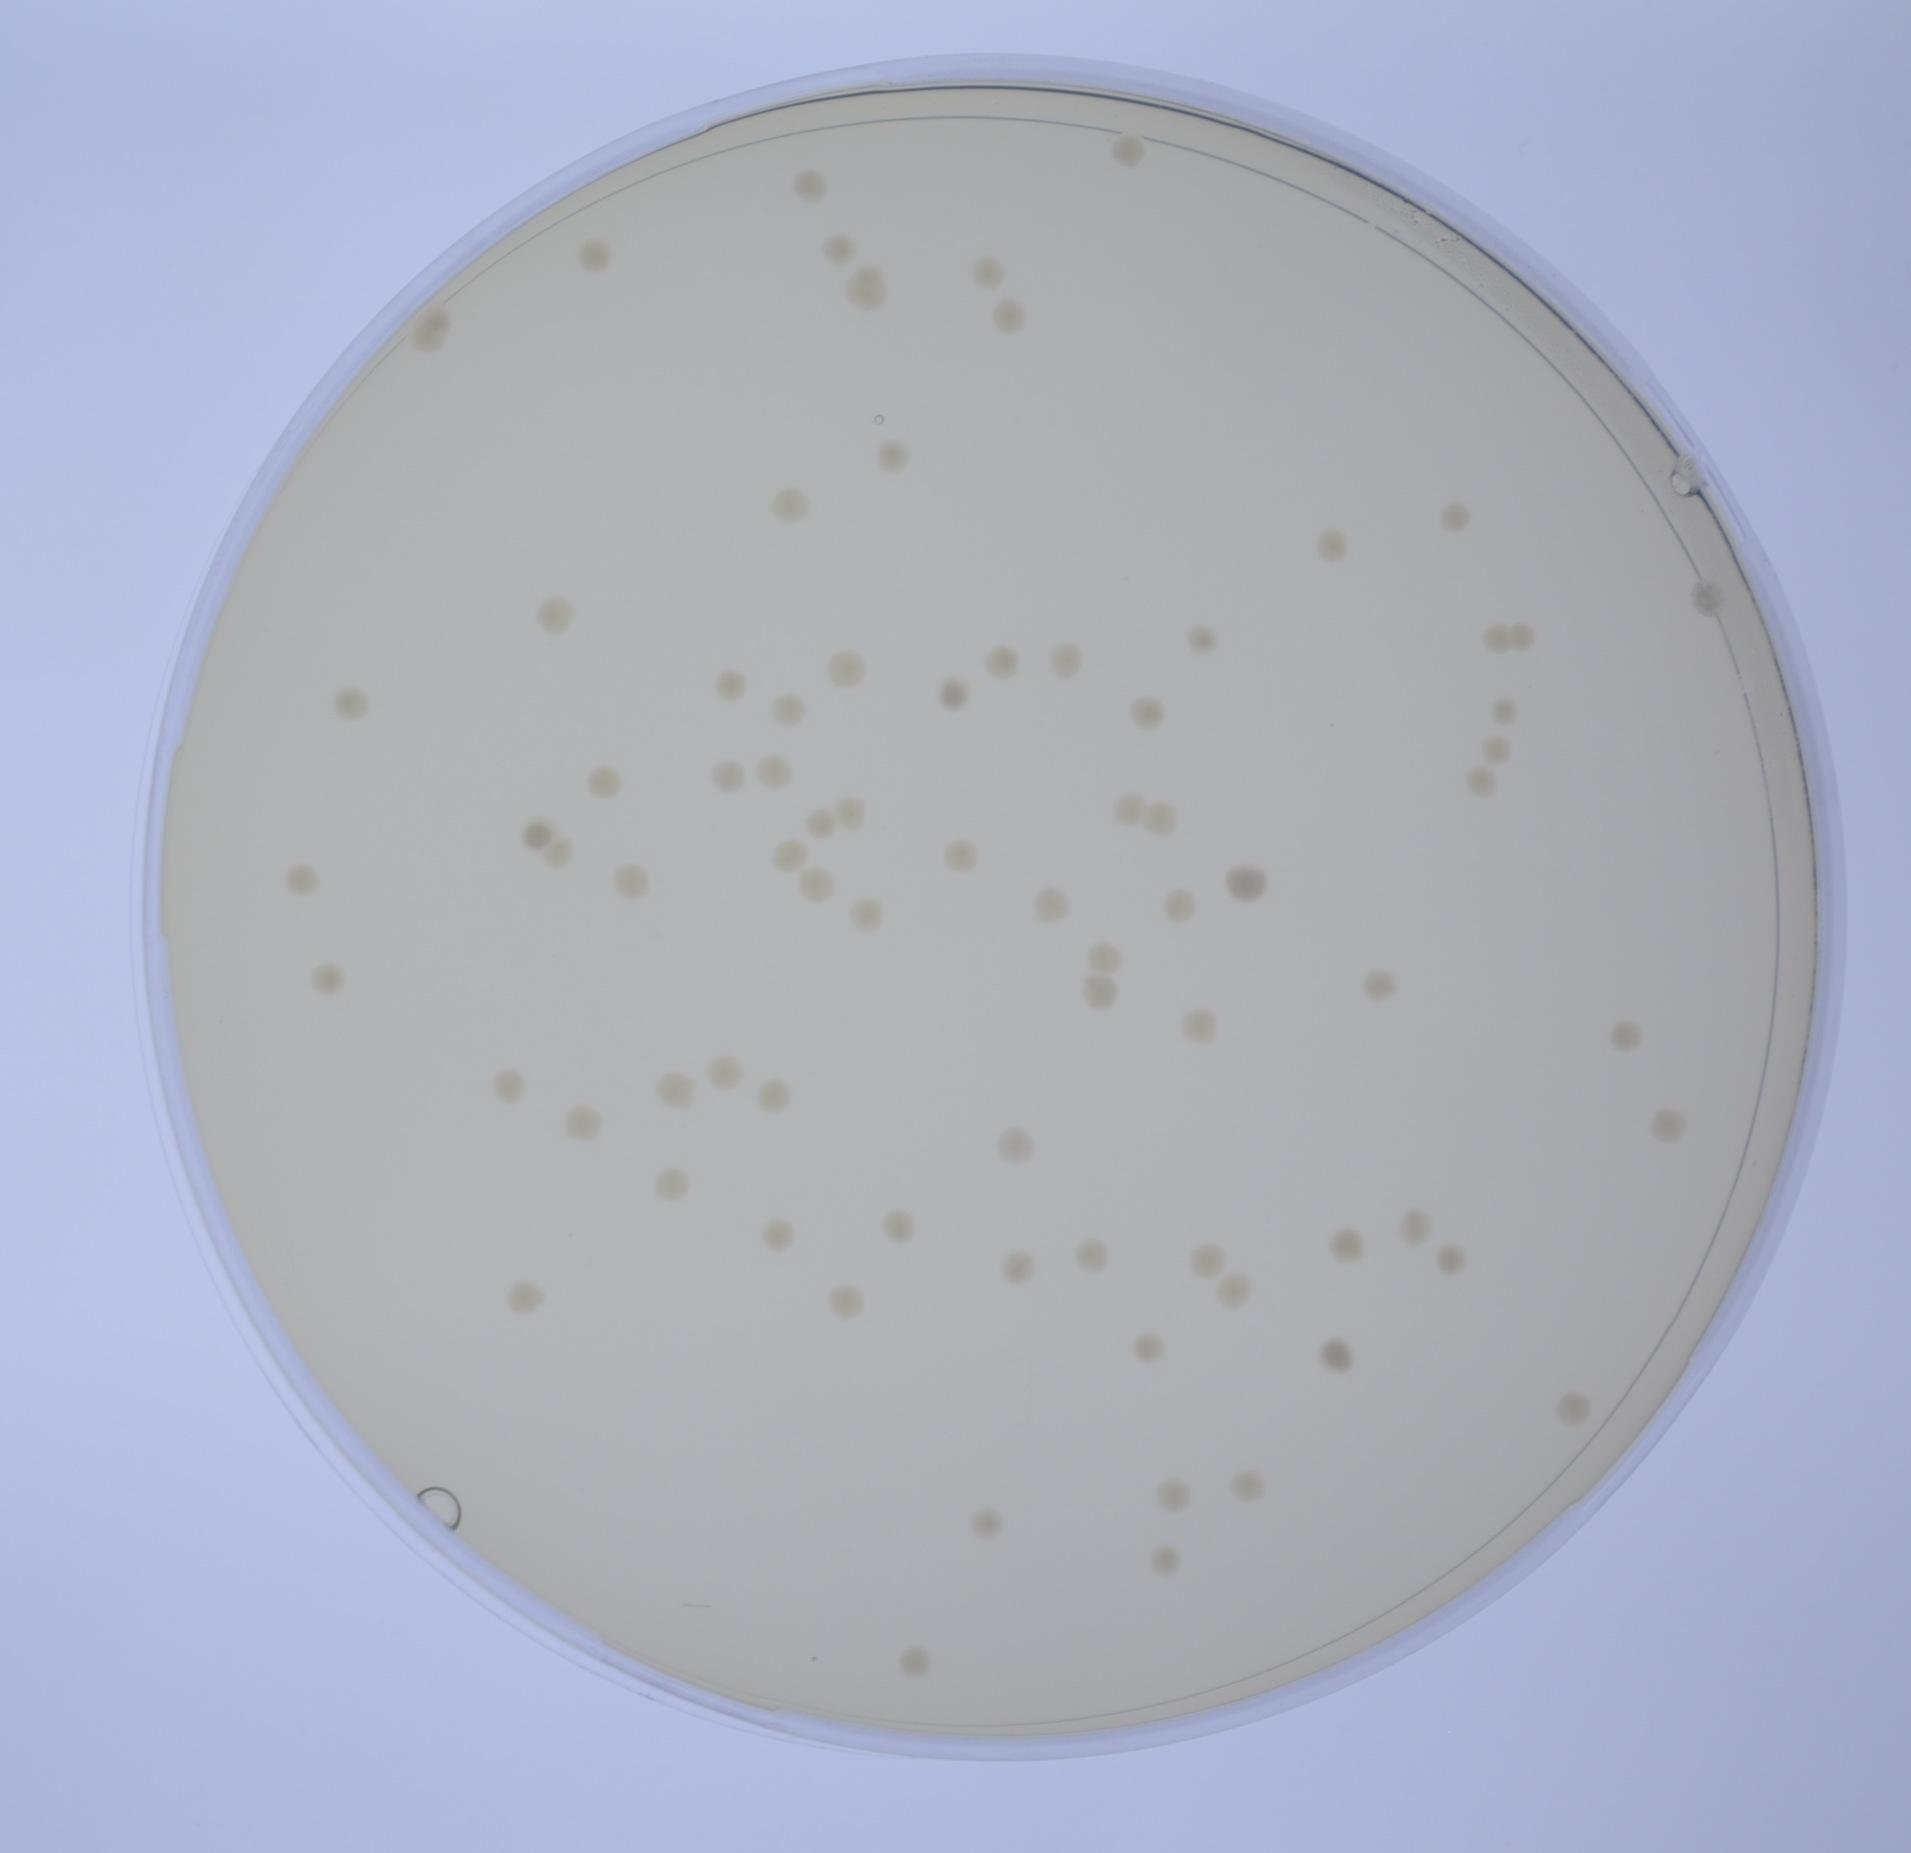colony: (819, 1276, 877, 1338), (1640, 1097, 1698, 1155), (821, 640, 875, 700), (556, 1097, 611, 1152), (1061, 1225, 1114, 1281), (604, 853, 657, 908), (1595, 1007, 1648, 1061), (978, 635, 1031, 688), (1385, 1200, 1440, 1251), (1307, 517, 1360, 568), (1179, 1234, 1232, 1285), (1316, 1331, 1367, 1384), (706, 747, 756, 802), (875, 1198, 923, 1254), (759, 681, 810, 732), (1426, 491, 1479, 541), (1222, 858, 1276, 906), (1119, 686, 1170, 735), (1043, 633, 1094, 683), (991, 1121, 1043, 1170), (582, 752, 635, 800), (648, 1070, 701, 1118), (1124, 1324, 1172, 1377), (1227, 1462, 1275, 1515), (787, 862, 838, 909), (1425, 1234, 1472, 1285), (996, 1239, 1043, 1292), (887, 1636, 940, 1682), (1455, 759, 1505, 807), (1179, 1005, 1227, 1054), (747, 1211, 799, 1258), (1686, 570, 1732, 621), (766, 479, 814, 527), (826, 783, 874, 831), (1546, 1385, 1594, 1433), (785, 164, 834, 210), (307, 954, 351, 1005), (1104, 123, 1150, 171), (935, 831, 983, 877), (706, 657, 754, 703), (1213, 1266, 1259, 1314), (1148, 1473, 1196, 1519), (701, 1043, 746, 1092), (648, 1162, 698, 1206), (749, 747, 800, 790), (1358, 966, 1406, 1010), (874, 437, 921, 481), (1143, 1539, 1188, 1587), (1080, 933, 1128, 978), (1319, 1218, 1363, 1264), (329, 681, 375, 725), (1145, 792, 1186, 841), (839, 278, 892, 316), (485, 1066, 531, 1109), (961, 1503, 1008, 1544), (930, 671, 973, 715), (797, 802, 841, 845), (1078, 973, 1123, 1015), (532, 594, 578, 635), (1479, 723, 1519, 771), (573, 230, 613, 278), (505, 1275, 548, 1317), (966, 251, 1008, 292), (1481, 688, 1524, 729), (1027, 880, 1068, 923), (766, 836, 809, 877), (846, 892, 889, 933), (539, 833, 580, 875), (1109, 785, 1147, 831), (988, 297, 1029, 336), (1159, 882, 1199, 921), (280, 858, 321, 897), (752, 1073, 790, 1114), (1179, 619, 1218, 657), (819, 227, 857, 266), (517, 817, 556, 853), (1479, 618, 1512, 659), (406, 326, 447, 357), (1508, 616, 1537, 653), (420, 304, 457, 333), (853, 261, 889, 288)
